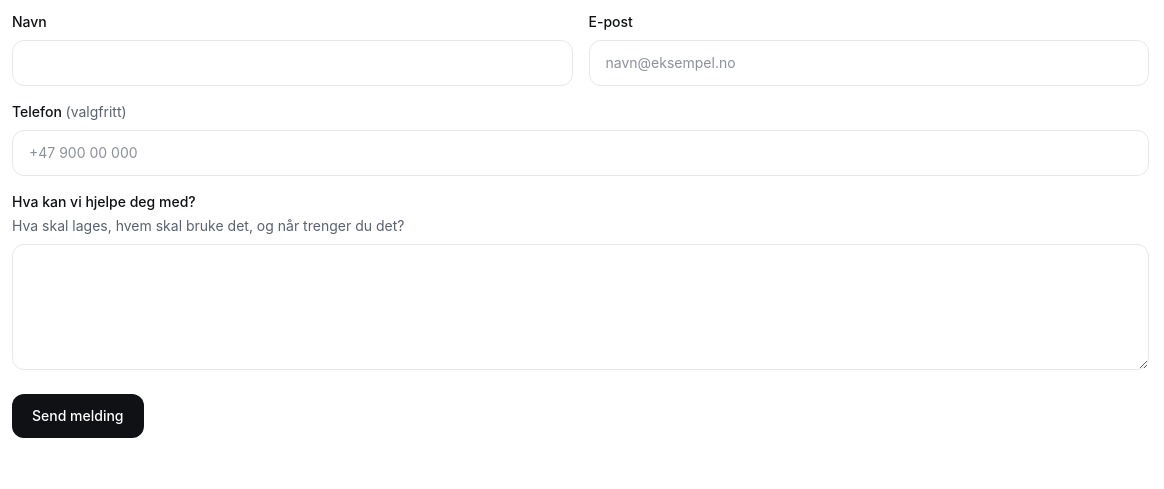
ContactForm › shows the server confirmation in the status region
Type "Kari" into the field labelled "Navn".
click(292, 63); type("Kari")  # box [12,40,572,86]
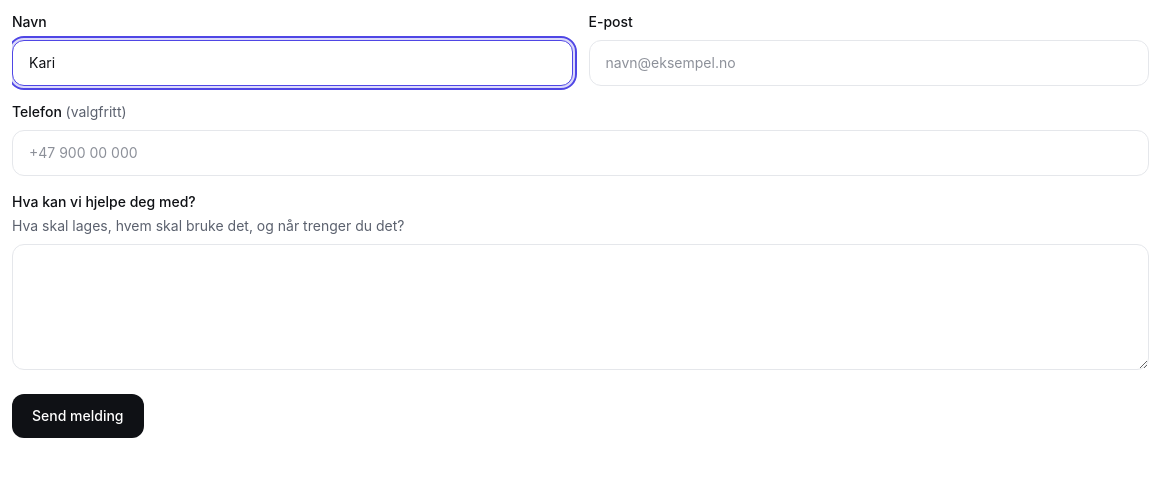
Type "kari@example.no" into the field labelled "E-post".
click(869, 63); type("kari@example.no")  # box [588,40,1149,86]
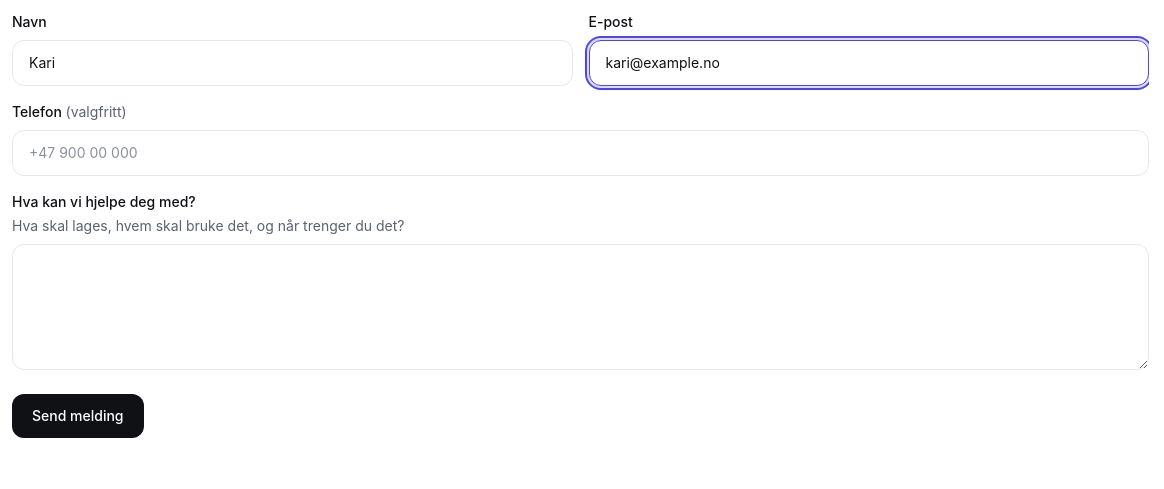
Type "En nettside." into the text box labelled "Hva kan vi hjelpe deg med".
click(580, 307); type("En nettside.")  # box [12,244,1149,370]
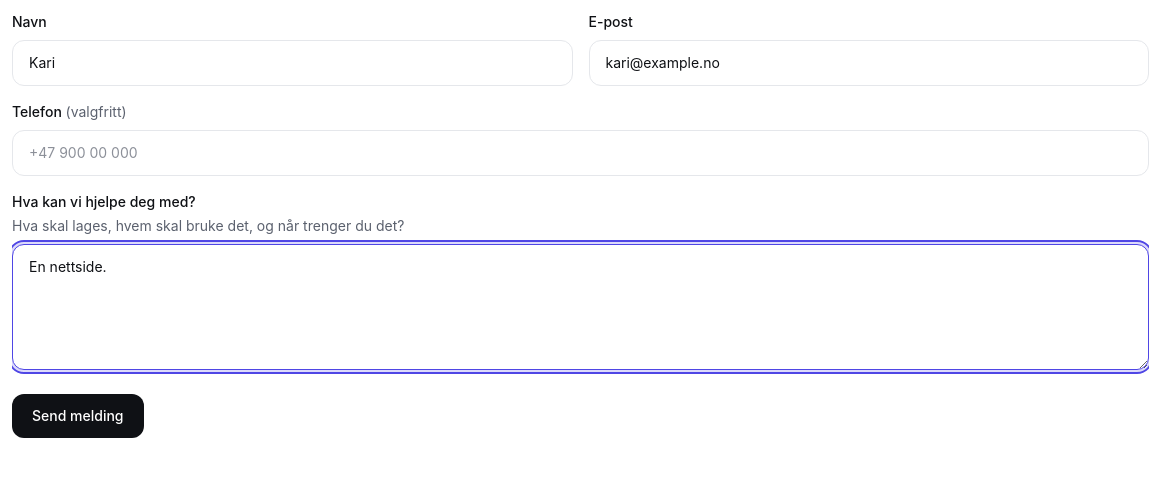
Click the button "Send melding".
click(78, 416)  # box [12,394,144,438]
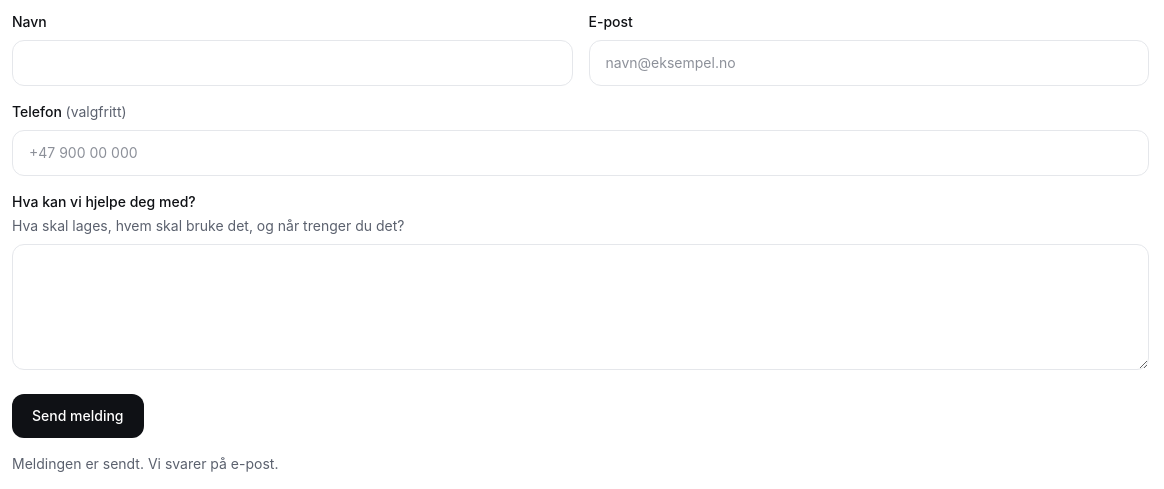
Check: the message reads "Meldingen er sendt. Vi svarer på e-post.", box [12,455,278,472]
Check: the field labelled "Navn" is empty, box [12,40,572,86]
